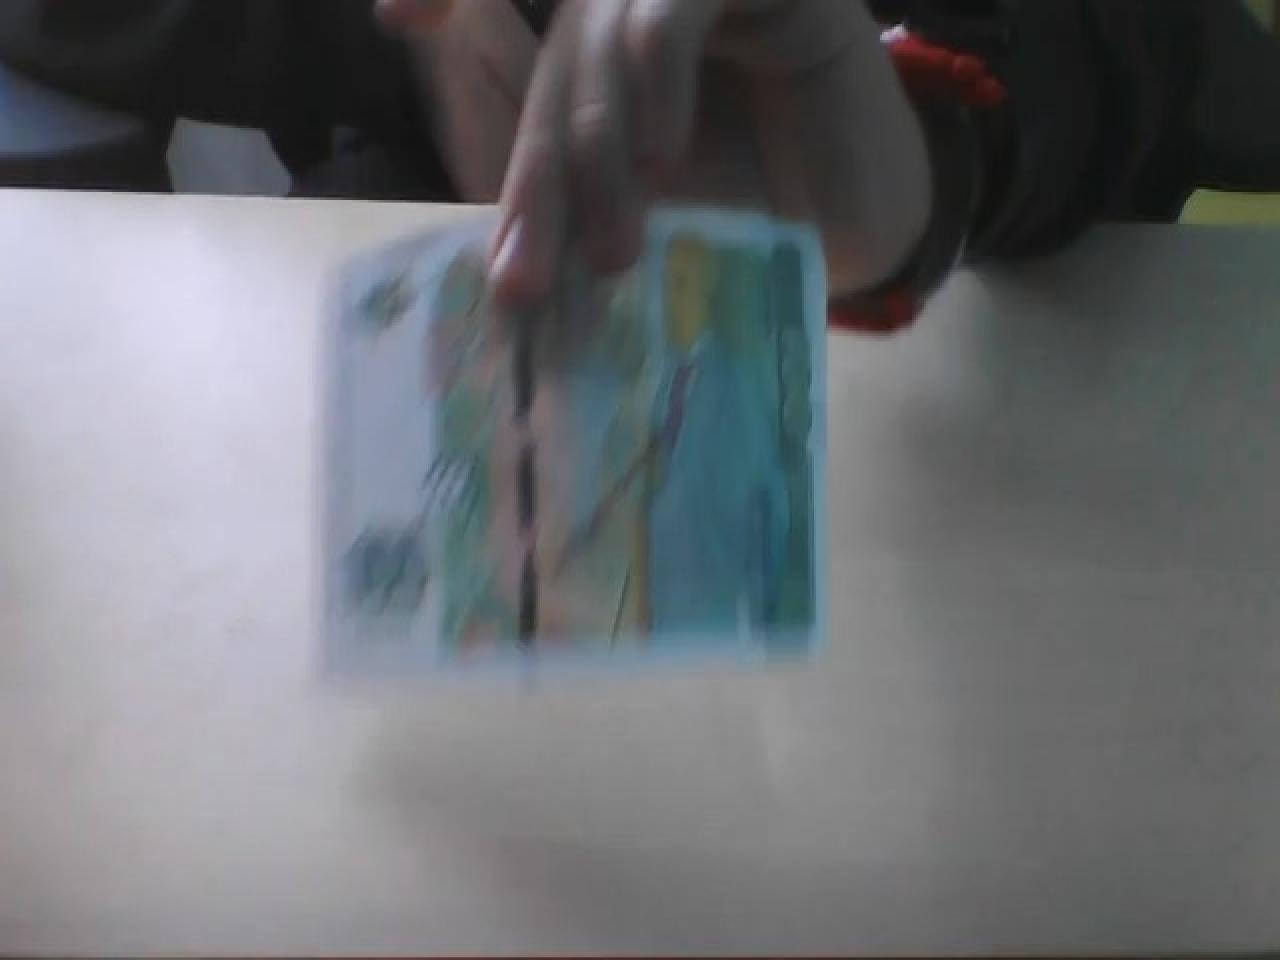100leva: (314, 201, 830, 691)
